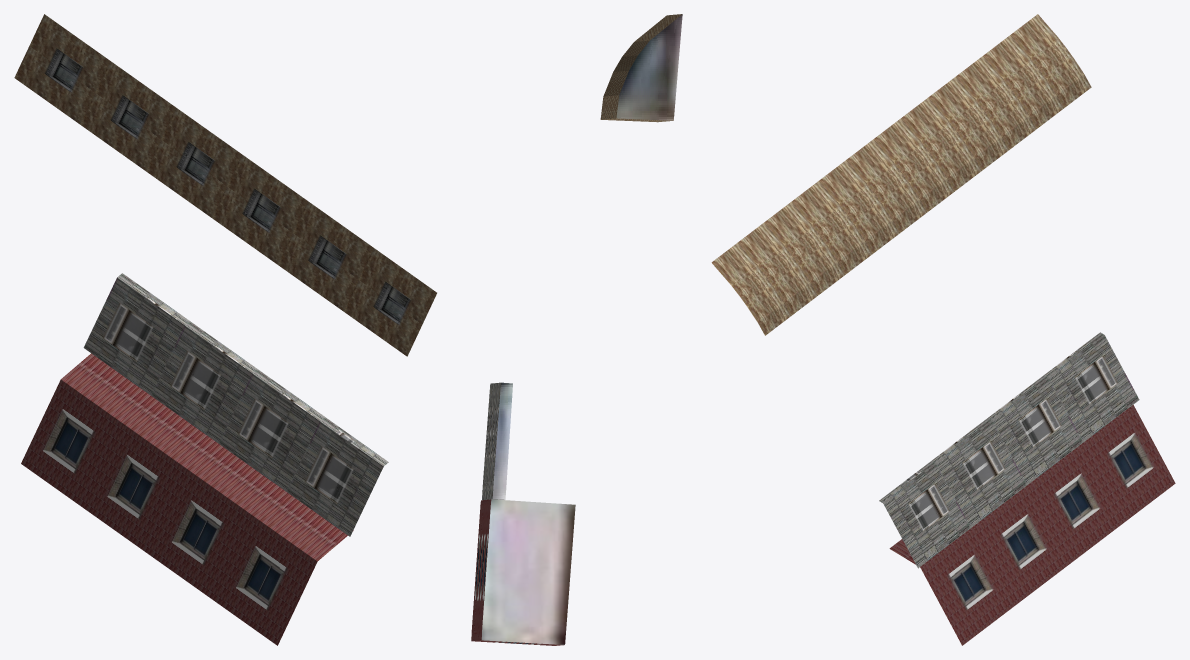
3 renders of one model, left to right at view 1: azimuth 30°, elevation 25°; view 2: azimuth 150°, elevation 25°; view 3: azimuth 270°, elevation 25°, orthographic. The views are drawn at different scales.
Bounding box in the file's own units: 12.69 × 28.67 × 22.3.
10 materials, 10 textured.
